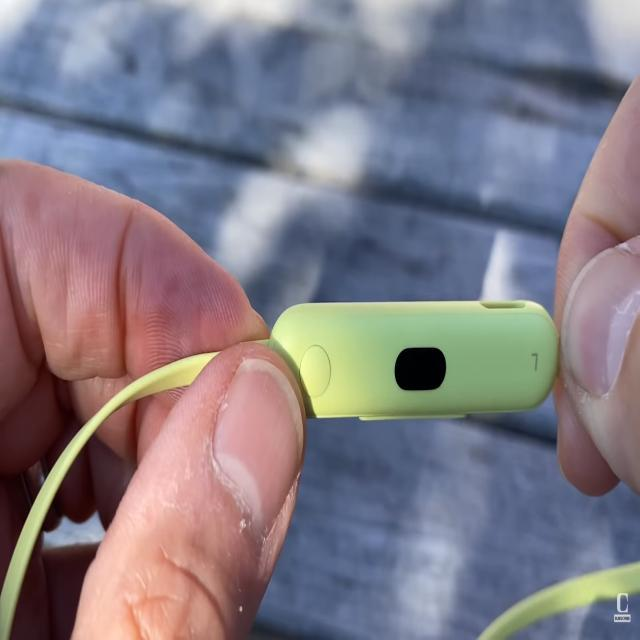Neckband: (2, 293, 640, 640)
